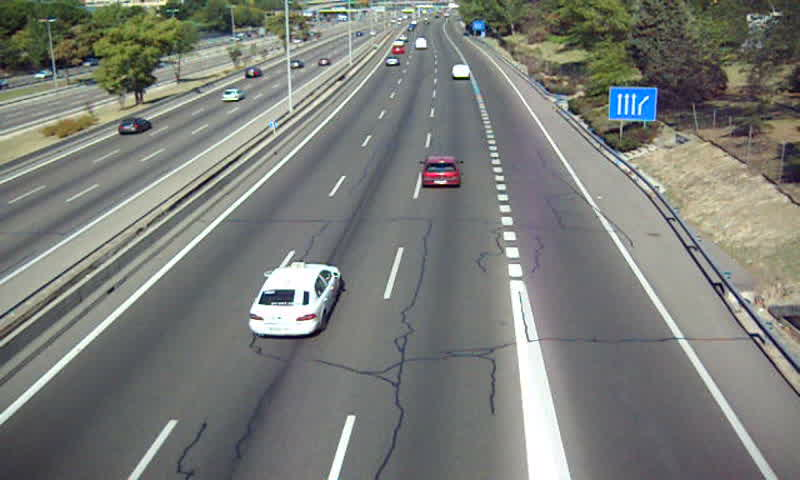car: (250, 264, 340, 337), (421, 156, 460, 188), (384, 54, 400, 67)
van: (451, 64, 471, 80)
